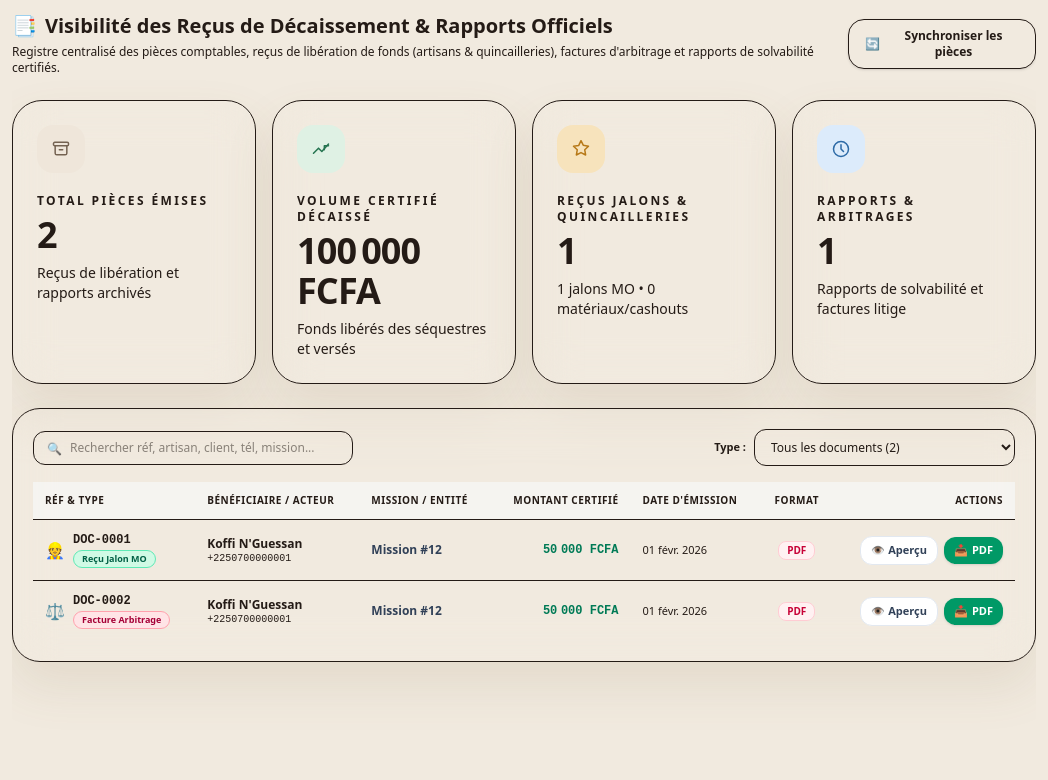
Scenario: DocumentsReportsSection › filtre les documents par type
Select "Factures d'Arbitrage Litige" in the dropdown at {"x": 884, "y": 448}, box x1=754 y1=429 x2=1015 y2=466
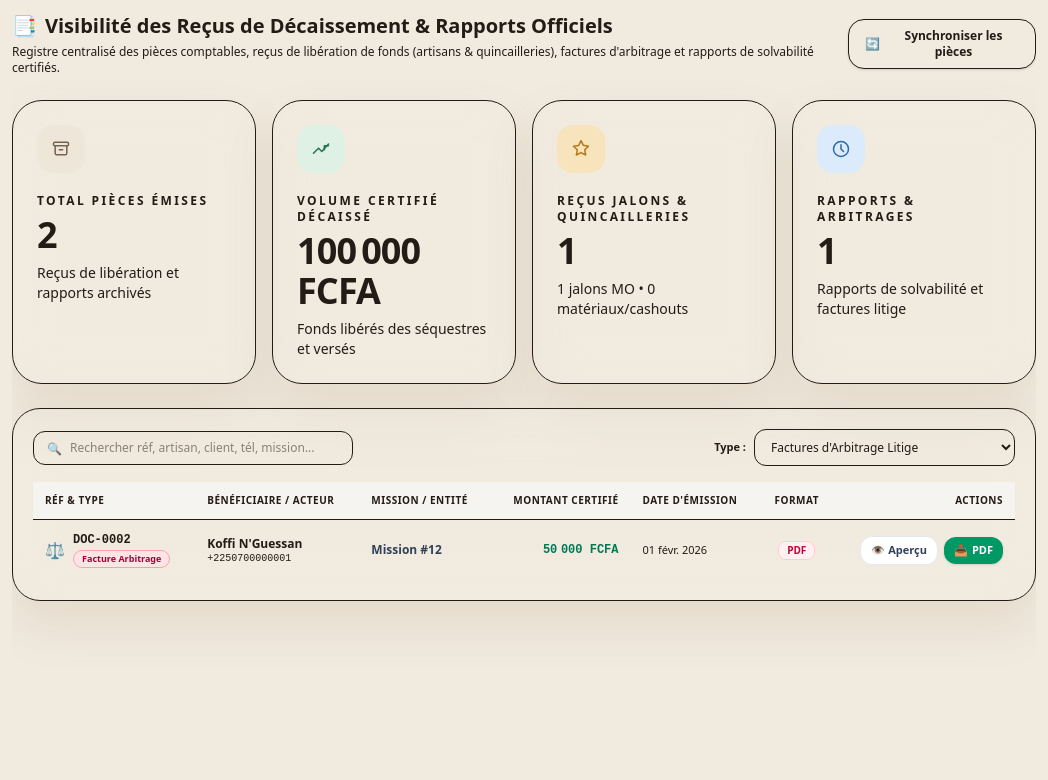
expect the text "DOC-0002" is shown: met, box x1=73 y1=533 x2=131 y2=547
expect the text "DOC-0001" is gone: met
